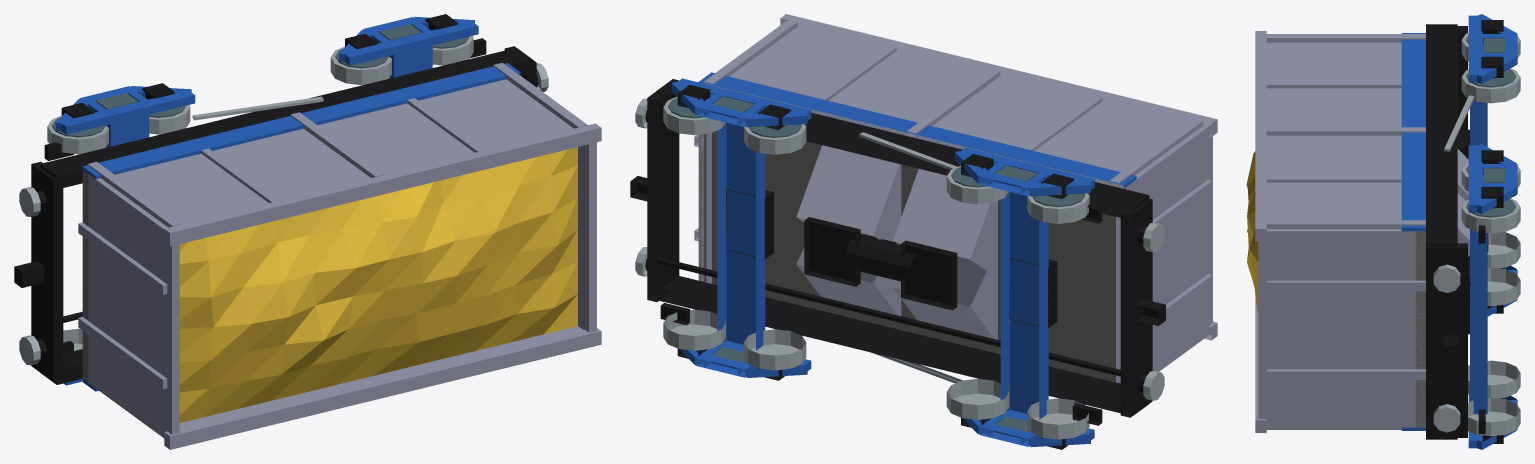
The model's file is loaded.glb.
The picture shows the model from 3 angles, left to right: view 1: azimuth 30°, elevation 25°; view 2: azimuth 150°, elevation 25°; view 3: azimuth 270°, elevation 25°; orthographic projection. The views are drawn at different scales.
Visible parts, largest first — view 1: loaded_load, loaded_body, loaded_bogie-1, loaded_bogie1, loaded_solebar1, loaded_side1_-3.30_2.00, loaded_headstock-1, loaded_buffers-1, loaded_side1_1.54_2.35, loaded_side1_-1.66_2.35, loaded_brake_lever1, loaded_solebar-1; view 2: loaded_body, loaded_bogie1, loaded_bogie-1, loaded_solebar-1, loaded_chute0, loaded_chute1, loaded_headstock1, loaded_headstock-1, loaded_side1_-3.30_2.00, loaded_solebar1, loaded_gate0, loaded_gate1 (+9 smaller); view 3: loaded_body, loaded_bogie1, loaded_bogie-1, loaded_solebar1, loaded_headstock1, loaded_side1_-3.30_2.00, loaded_buffers1, loaded_load, loaded_side1_-1.66_2.35, loaded_side1_1.54_2.35, loaded_headstock-1, loaded_chute1 (+3 smaller).
Boxes of the visible parts, box(x1,y1,x2,y2) form: loaded_load: box(179, 147, 577, 422); loaded_body: box(78, 62, 601, 449); loaded_bogie-1: box(47, 83, 195, 385); loaded_bogie1: box(330, 14, 478, 85); loaded_solebar1: box(40, 47, 533, 189); loaded_side1_-3.30_2.00: box(82, 63, 520, 179); loaded_headstock-1: box(31, 161, 63, 382); loaded_buffers-1: box(14, 187, 46, 365); loaded_side1_1.54_2.35: box(407, 98, 485, 152); loaded_side1_-1.66_2.35: box(201, 148, 279, 202); loaded_brake_lever1: box(192, 96, 323, 120); loaded_solebar-1: box(41, 349, 82, 384); loaded_body: box(694, 14, 1217, 383); loaded_bogie1: box(663, 78, 811, 380); loaded_bogie-1: box(946, 147, 1094, 449); loaded_solebar-1: box(656, 276, 1148, 415); loaded_chute0: box(893, 169, 997, 339); loaded_chute1: box(796, 145, 901, 315); loaded_headstock1: box(647, 91, 679, 302); loaded_headstock-1: box(1120, 198, 1152, 417); loaded_side1_-3.30_2.00: box(699, 72, 1136, 188); loaded_solebar1: box(656, 79, 1149, 219); loaded_gate0: box(901, 240, 957, 310); loaded_gate1: box(804, 217, 860, 286); loaded_body: box(1255, 31, 1425, 432); loaded_bogie1: box(1461, 144, 1520, 449); loaded_bogie-1: box(1461, 14, 1520, 316); loaded_solebar1: box(1426, 24, 1457, 246); loaded_headstock1: box(1426, 243, 1467, 437); loaded_side1_-3.30_2.00: box(1401, 33, 1425, 231); loaded_buffers1: box(1433, 264, 1460, 432); loaded_load: box(1246, 151, 1258, 314); loaded_side1_-1.66_2.35: box(1266, 81, 1401, 88); loaded_side1_1.54_2.35: box(1266, 176, 1401, 182); loaded_headstock-1: box(1457, 26, 1467, 129); loaded_chute1: box(1457, 193, 1469, 256).
Bounding box in the file's own units: 8.2 × 3.9 × 3.92.
